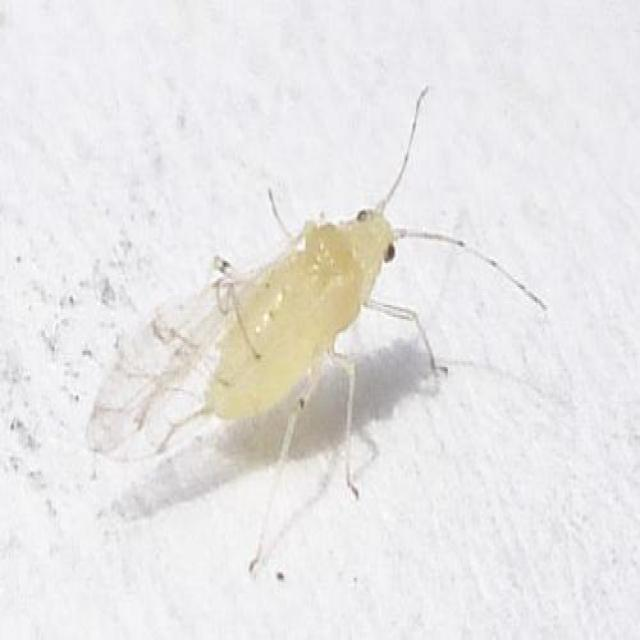Aphids: (113, 23, 543, 551)
